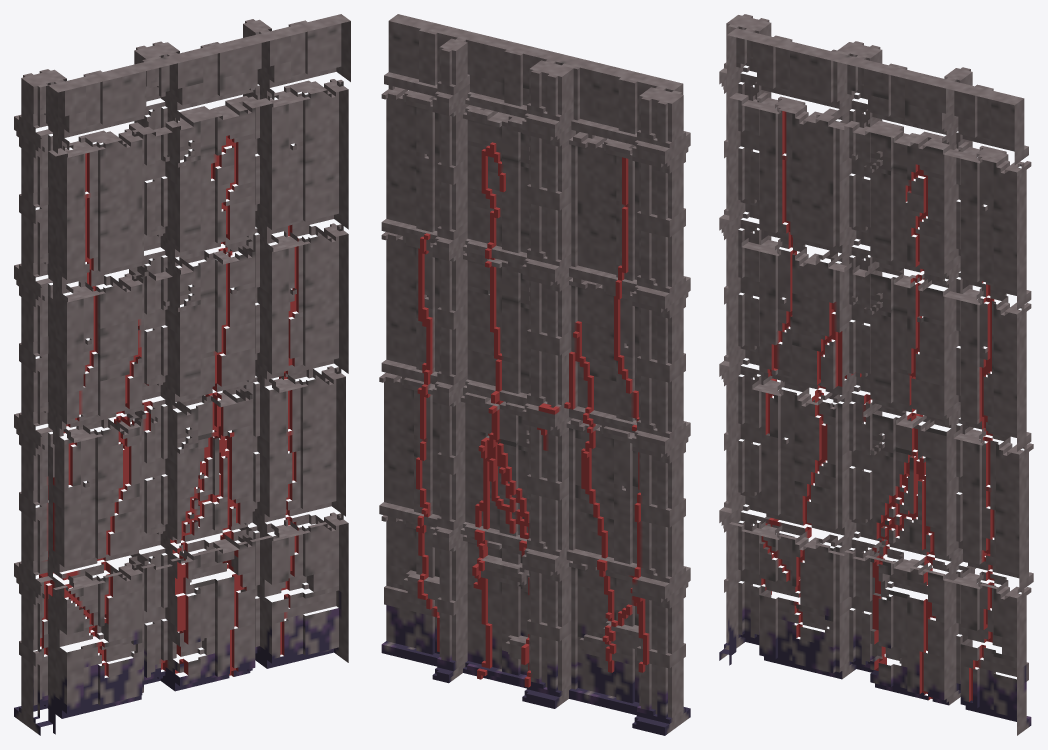
File: deathGate_door_left_state_4.fbx
The picture shows the model from 3 angles, left to right: view 1: azimuth 30°, elevation 25°; view 2: azimuth 150°, elevation 25°; view 3: azimuth 330°, elevation 25°; orthographic projection. The views are drawn at different scales.
Parts seen in each view (by area): view 1: deathGate_door_left_state_8; view 2: deathGate_door_left_state_8; view 3: deathGate_door_left_state_8.
Boxes of the visible parts, <box> form: deathGate_door_left_state_8: <box>14,14,350,735</box>; deathGate_door_left_state_8: <box>379,14,690,735</box>; deathGate_door_left_state_8: <box>719,14,1033,735</box>.
Bounding box in the file's own units: 73 × 147 × 13.
1 material, 1 textured.
